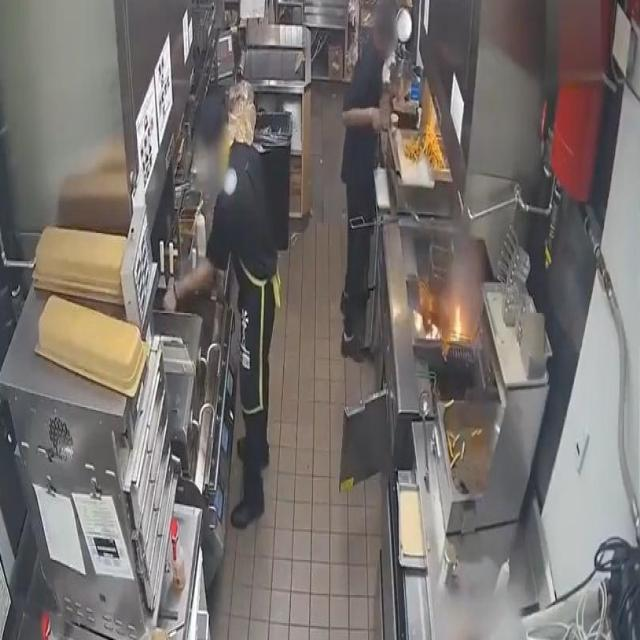fire: (452, 224, 482, 302)
smoke: (452, 299, 466, 340), (425, 317, 442, 341)
